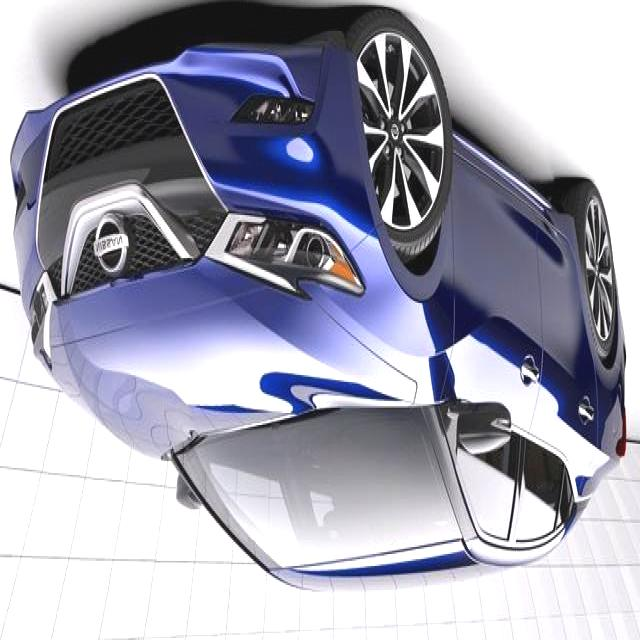blue: (9, 17, 631, 604)
